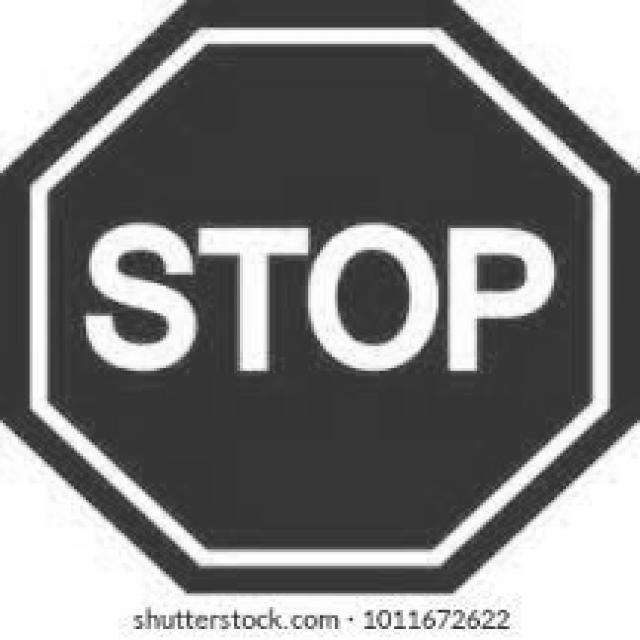stop sign: (1, 1, 640, 593)
